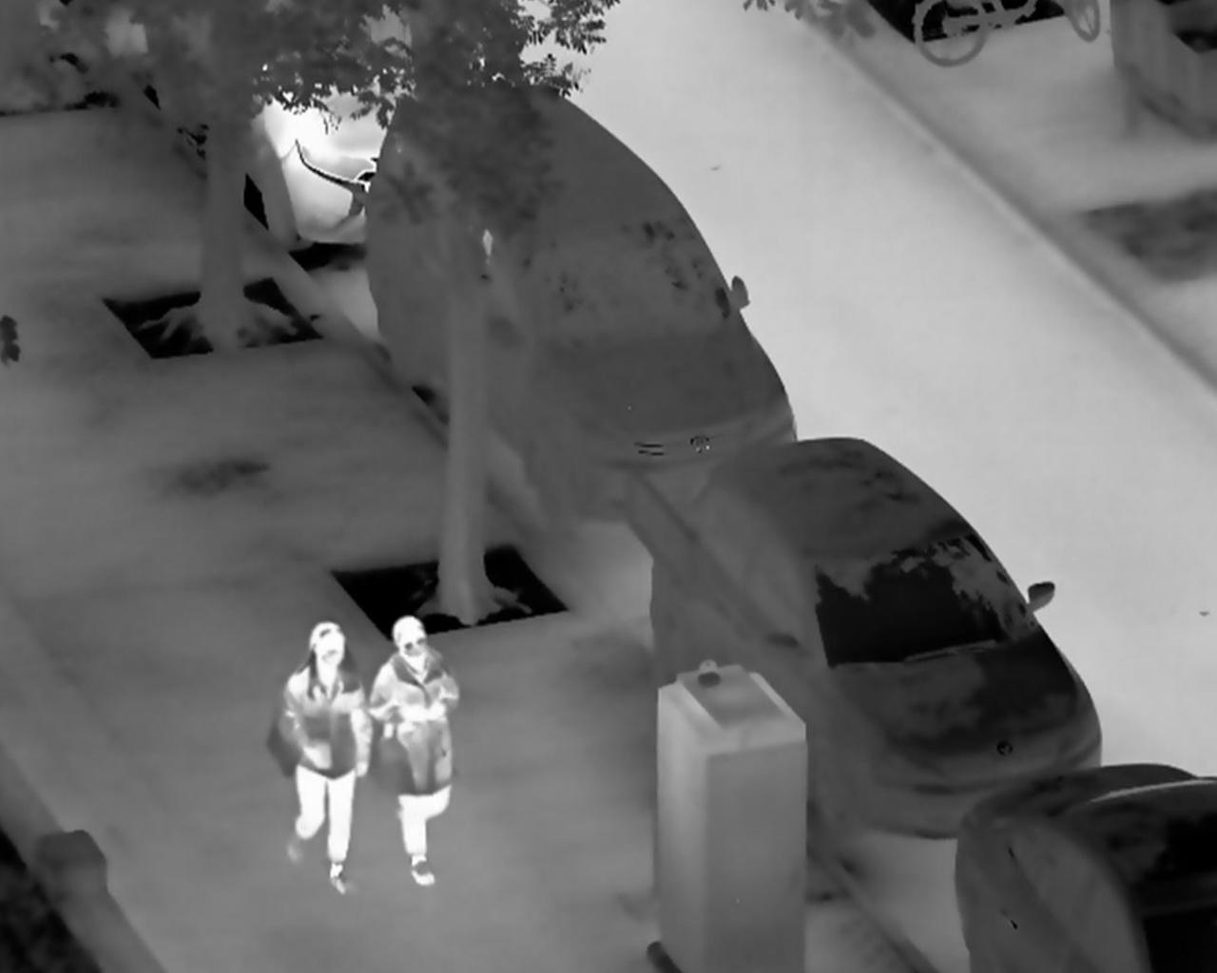person: (274, 617, 371, 899), (370, 616, 458, 890)
